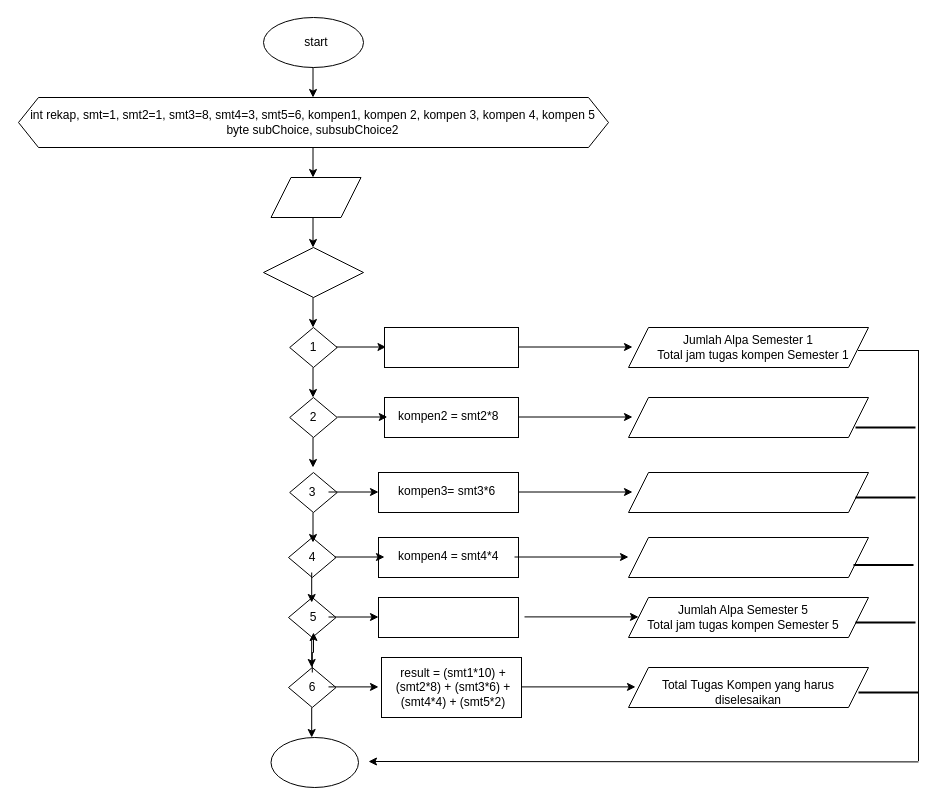
Image size: 944x805. Some labels were removed from this diagram. The centre of each missing label's shape, as x and y in pixels:
"end" belongs at point 314,762.
"Jumlah Alpa Semester 2 Total jam tugas kompen Semester 2" belongs at point 748,417.
"Jumlah Alpa Semester 3 Total jam tugas kompen Semester 3" belongs at point 748,492.
"Jumlah Alpa Semester 4 Total jam tugas kompen Semester 4" belongs at point 748,557.
"kompen1 = smt1*10" belongs at point 451,347.
"kompen5 = smt5*2" belongs at point 448,617.
"subChoice" belongs at point 315,197.
"switch" belongs at point 313,272.
